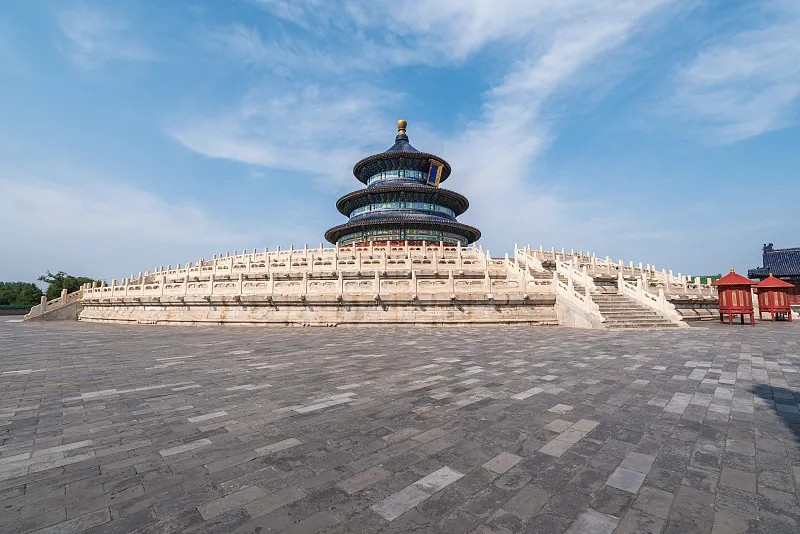Heaven: (324, 117, 483, 249)
